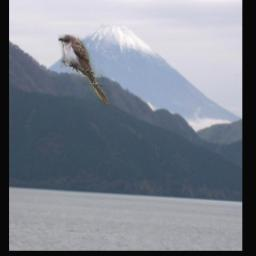Cuckoo: (58, 34, 109, 105)
